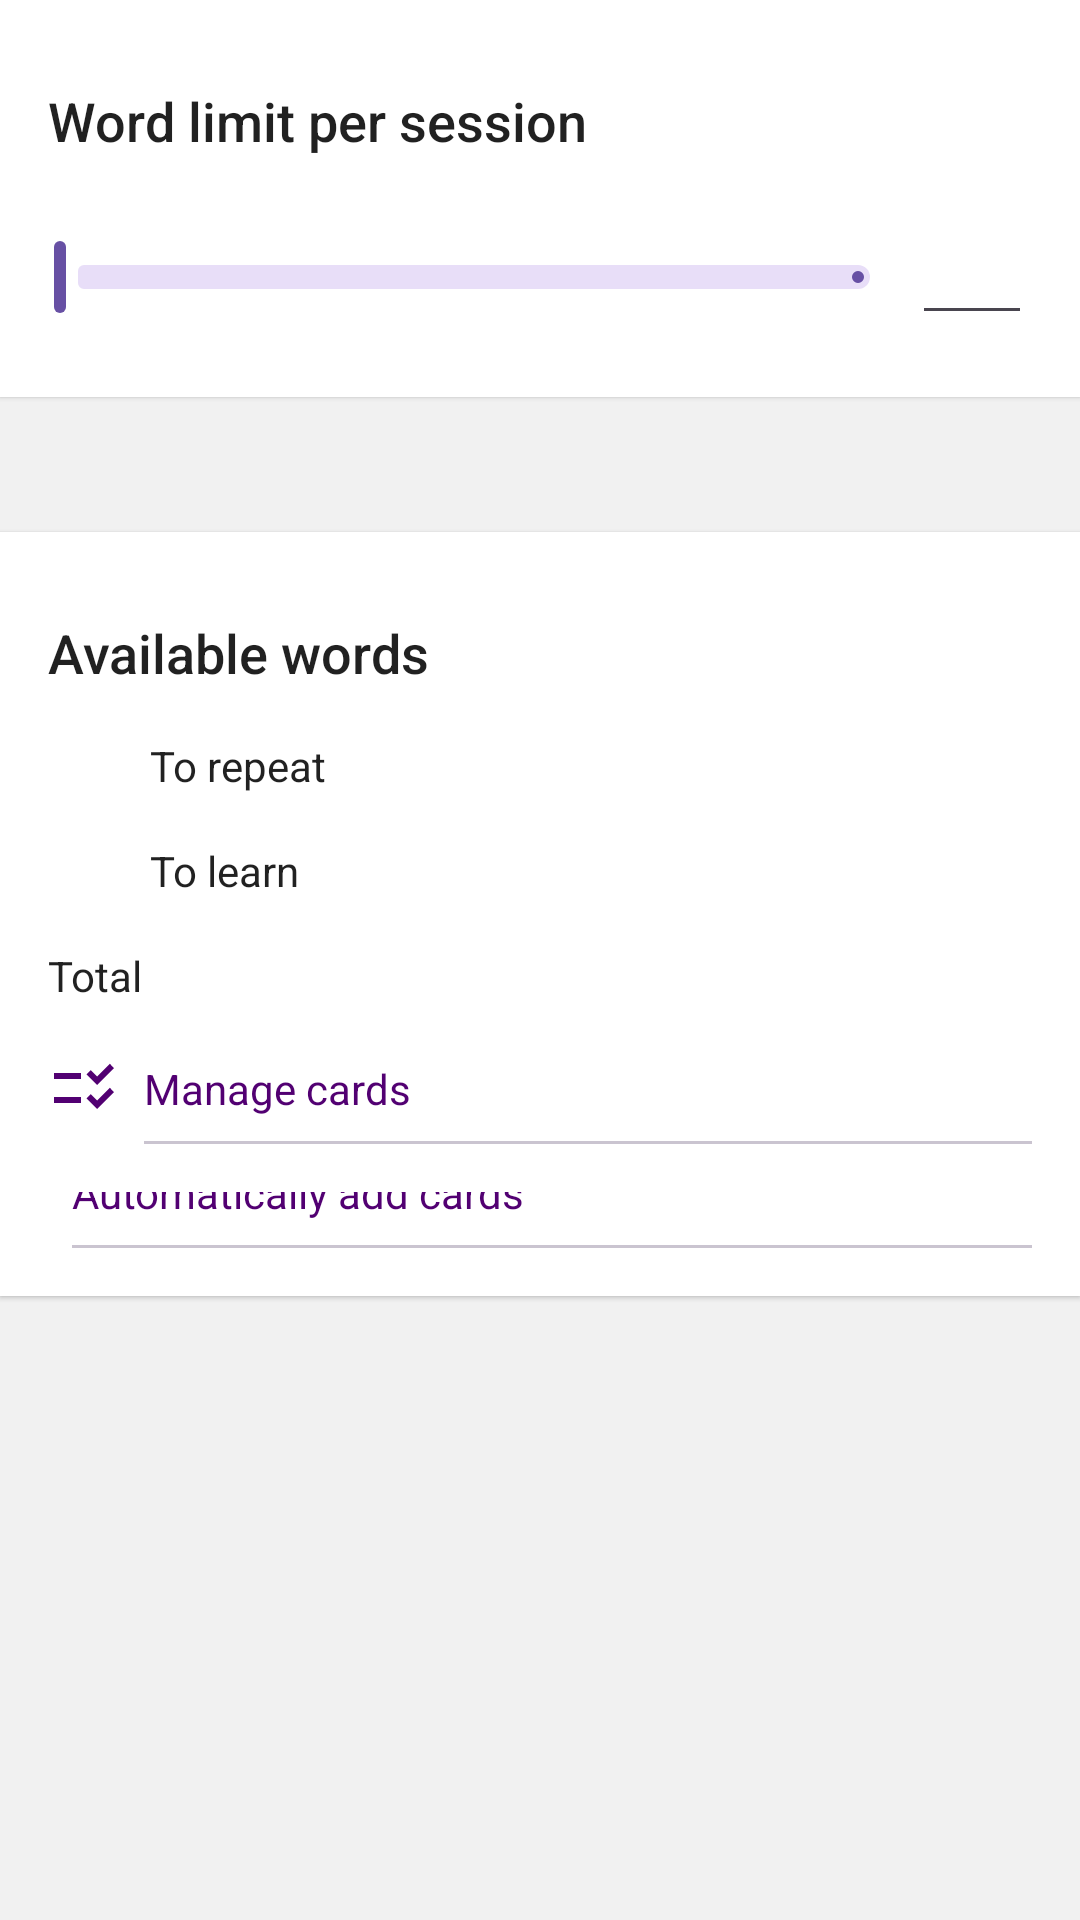

Icons on this 1080 x 1920 Android screen, each with the point to tap as (x=x, y=y):
list manage: (x=84, y=1086)
